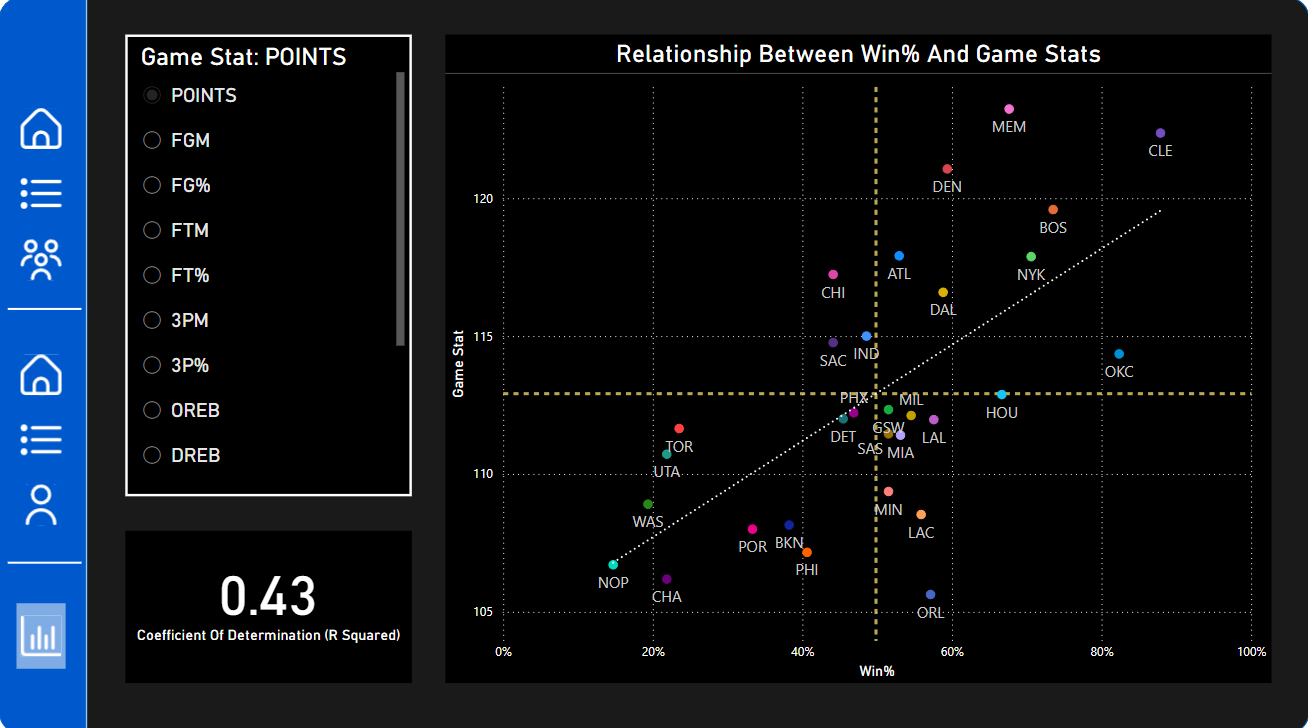

The page's visual inventory and layout, read from the dashboard file:
{"tool":"powerbi","page":{"name":"Scatter Plot","canvas":[1280,720],"ordinal":2},"visuals":[{"type":"shape","box":[0,0,85,720],"z":0},{"type":"shape","box":[85,0,1195,720],"z":1000},{"type":"scatterChart","title":"Relationship Between Win% And Game Stats","fields":{"Series":["nba-conference.ShortName"],"X":["Sum(records.Win%)"],"Y":["records.Dynamic Stat"]},"box":[436.2,36.2,807.5,633.8],"z":2000},{"type":"slicer","fields":{"Values":["MeasureFilter.FilterTable"]},"box":[123.8,36.2,280,451.2],"z":3000},{"type":"card","fields":{"Values":["records.Correlation"]},"box":[123.8,521.2,280,148.8],"z":4000},{"type":"actionButton","box":[12.9,35.7,60,60],"z":5000}]}

Visuals, with their boxes on the page's 1280x720 design canvas (x1, y1, x2, y2). These are canvas units, not pixel positions in the 1308x728 screenshot, which may show the page scaled, cropped or inside an application window:
shape: region(0, 0, 85, 720)
shape: region(85, 0, 1280, 720)
"Relationship Between Win% And Game Stats" scatterChart: region(436, 36, 1244, 670)
slicer - MeasureFilter.FilterTable: region(124, 36, 404, 487)
card - records.Correlation: region(124, 521, 404, 670)
actionButton: region(13, 36, 73, 96)
